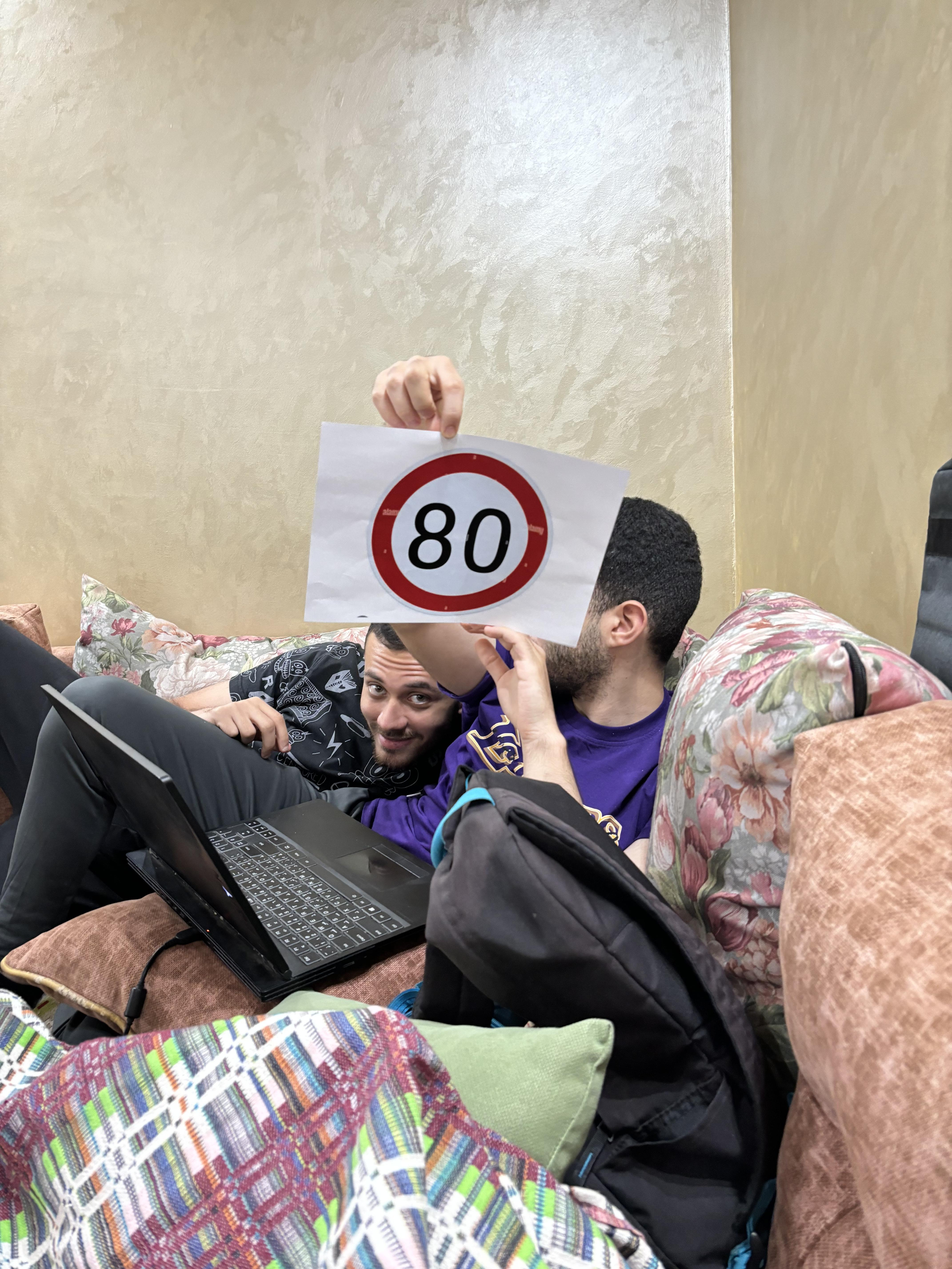80-Speed: (365, 443, 552, 616)
